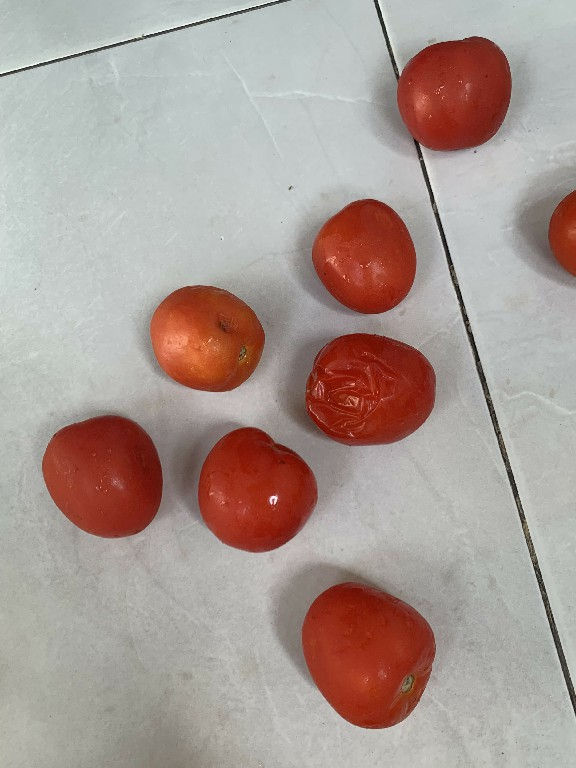NG: (303, 331, 442, 450), (144, 274, 266, 394)
OK: (296, 574, 442, 742), (192, 418, 323, 560), (40, 413, 168, 539), (396, 29, 513, 165), (304, 193, 418, 319)
